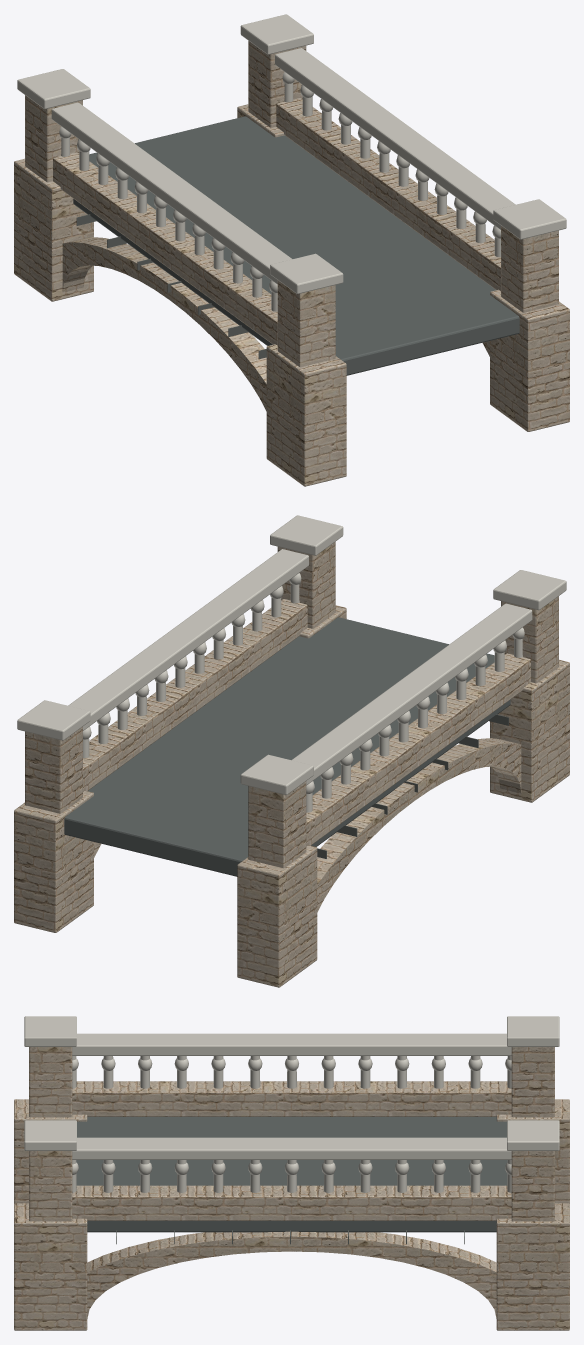
Rendered from elmwood-bridge-313128850.glb.
3 views of the same model, one above another, from view 1: azimuth 30°, elevation 25°; view 2: azimuth 150°, elevation 25°; view 3: azimuth 270°, elevation 25° (orthographic). The views are drawn at different scales.
Parts seen in each view (by area): view 1: elmwood-bridge-313128850 Polish limestone, elmwood-bridge-313128850 Polish bridge asphalt, elmwood-bridge-313128850 Polish dressed limestone, elmwood-bridge-313128850 Polish carved recess; view 2: elmwood-bridge-313128850 Polish limestone, elmwood-bridge-313128850 Polish bridge asphalt, elmwood-bridge-313128850 Polish dressed limestone, elmwood-bridge-313128850 Polish carved recess; view 3: elmwood-bridge-313128850 Polish limestone, elmwood-bridge-313128850 Polish dressed limestone, elmwood-bridge-313128850 Polish bridge asphalt.
Part boxes in pixels (left/top/right/bottom): elmwood-bridge-313128850 Polish limestone: left=14, top=41, right=569, bottom=486; elmwood-bridge-313128850 Polish bridge asphalt: left=73, top=116, right=519, bottom=375; elmwood-bridge-313128850 Polish dressed limestone: left=17, top=14, right=566, bottom=311; elmwood-bridge-313128850 Polish carved recess: left=76, top=214, right=266, bottom=359; elmwood-bridge-313128850 Polish limestone: left=14, top=542, right=569, bottom=987; elmwood-bridge-313128850 Polish bridge asphalt: left=64, top=617, right=510, bottom=876; elmwood-bridge-313128850 Polish dressed limestone: left=17, top=515, right=566, bottom=812; elmwood-bridge-313128850 Polish carved recess: left=317, top=714, right=508, bottom=858; elmwood-bridge-313128850 Polish limestone: left=14, top=1047, right=569, bottom=1330; elmwood-bridge-313128850 Polish dressed limestone: left=24, top=1016, right=559, bottom=1192; elmwood-bridge-313128850 Polish bridge asphalt: left=76, top=1117, right=507, bottom=1232.
Bounding box in the file's own units: 4.11 × 2.9 × 7.67.
Materials: 4 (1 with a texture image).
